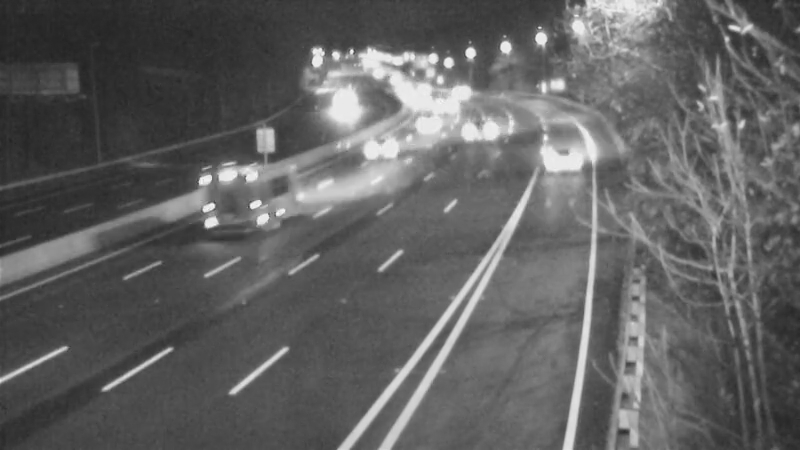vehicle: (340, 114, 420, 194), (523, 121, 603, 201), (191, 154, 271, 234), (431, 67, 481, 117), (399, 80, 449, 130), (414, 78, 464, 128), (402, 100, 452, 150), (451, 101, 501, 151), (310, 83, 360, 133)
